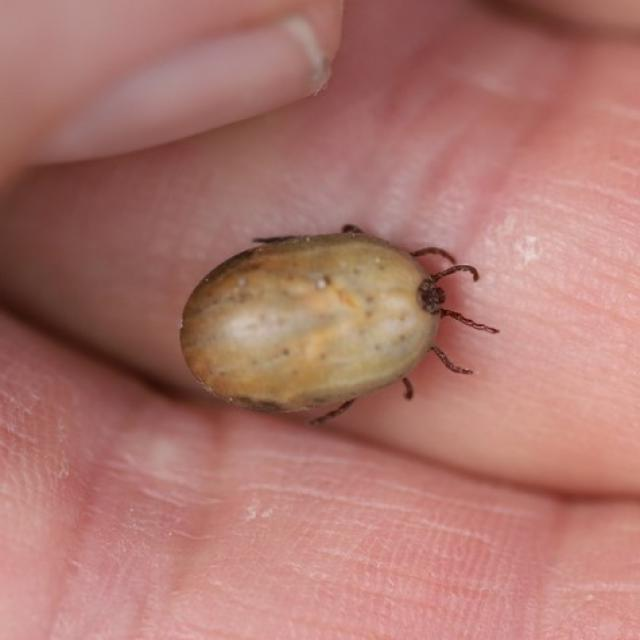Dermacentor Reticulatus-F-Fed: (179, 224, 500, 425)
